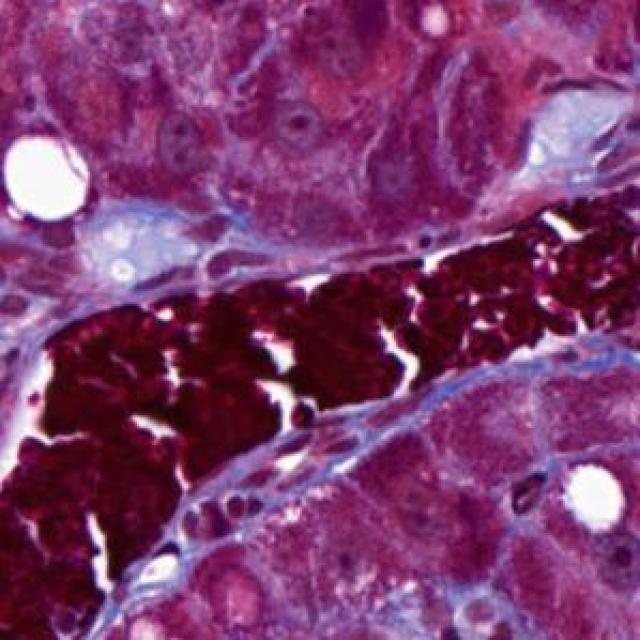inflammation: (501, 460, 554, 518)
